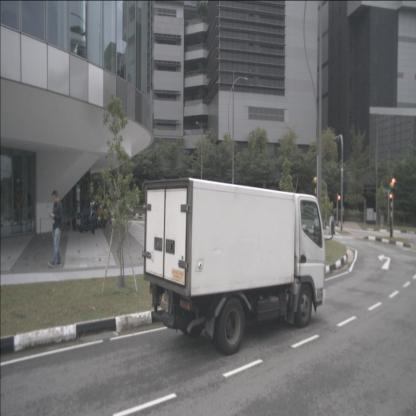human-pedestrian-adult: (48, 190, 63, 266), (342, 206, 345, 223)
vehicle-truck: (143, 177, 326, 357)
